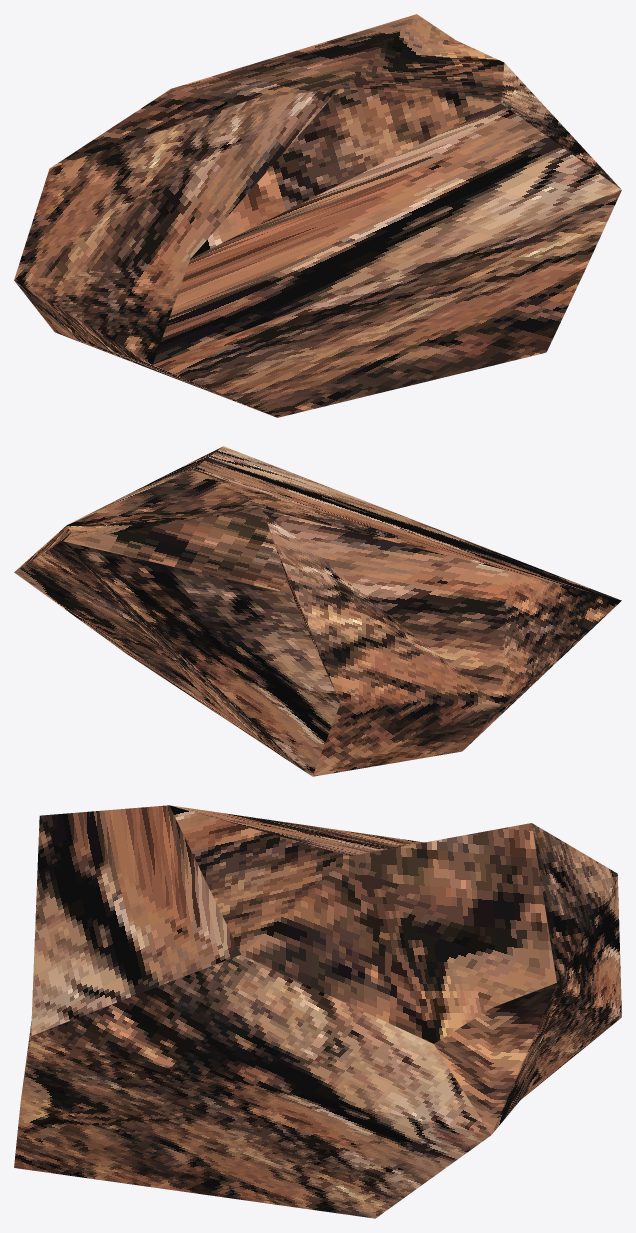
File: stage-gran-p4-10.glb
The picture shows the model from 3 angles, top to bottom: view 1: azimuth 30°, elevation 25°; view 2: azimuth 150°, elevation 25°; view 3: azimuth 270°, elevation 25°; orthographic projection. The views are drawn at different scales.
Bounding box in the file's own units: 19.94 × 7.07 × 14.52.
Materials: 1 (1 with a texture image).
